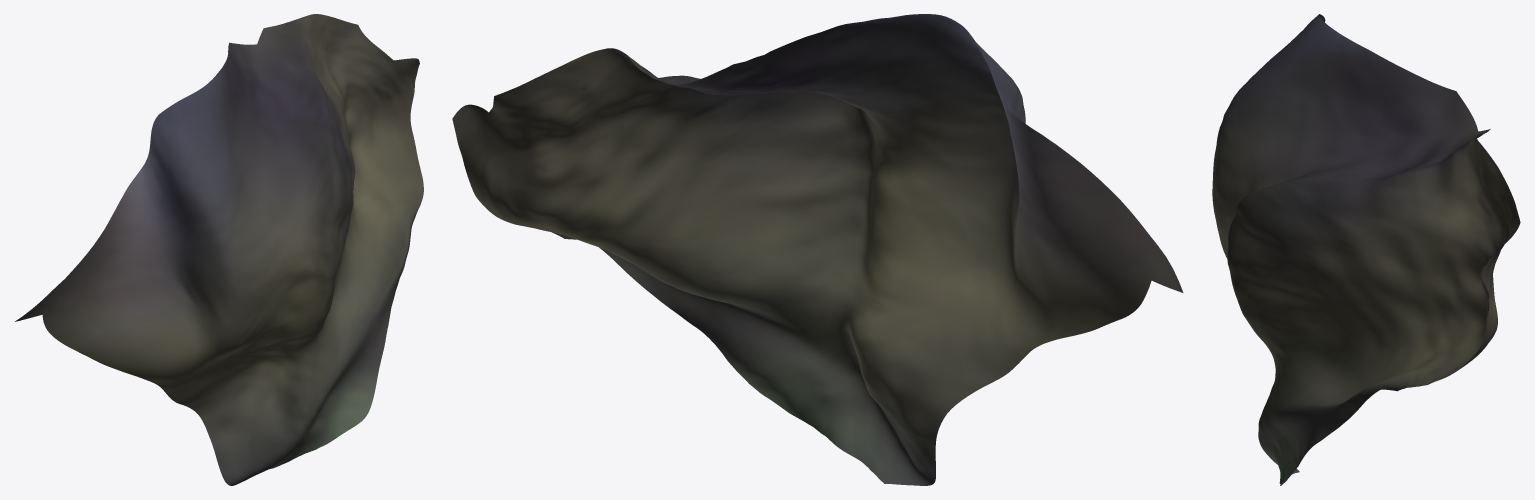
The model's file is Cloud_global_new_15.glb.
3 renders of one model, left to right at view 1: azimuth 30°, elevation 25°; view 2: azimuth 150°, elevation 25°; view 3: azimuth 270°, elevation 25°, orthographic. The views are drawn at different scales.
Parts seen in each view (by area): view 1: LOD0; view 2: LOD0; view 3: LOD0.
Part boxes in pixels (left/top/right/bottom): LOD0: left=15, top=14, right=423, bottom=485; LOD0: left=452, top=14, right=1183, bottom=485; LOD0: left=1212, top=14, right=1520, bottom=485.
Size of what is drawn, in the model's own units: 1.36 by 1.03 by 0.6747.
